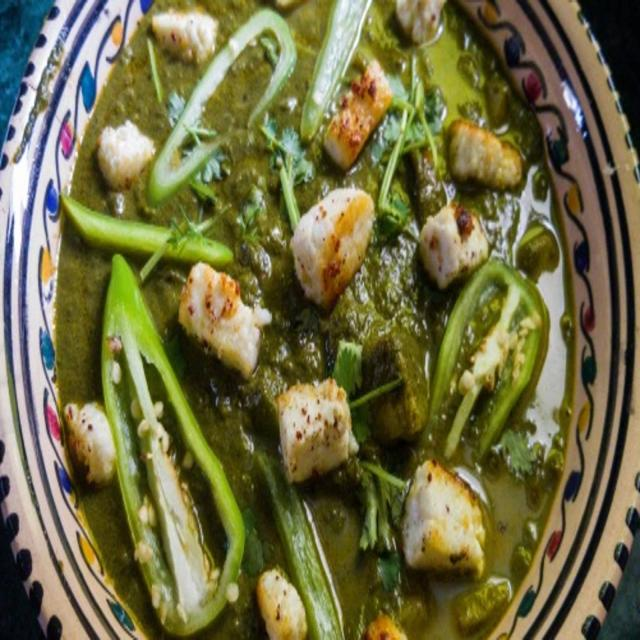Palak Paneer: (54, 0, 577, 640)
